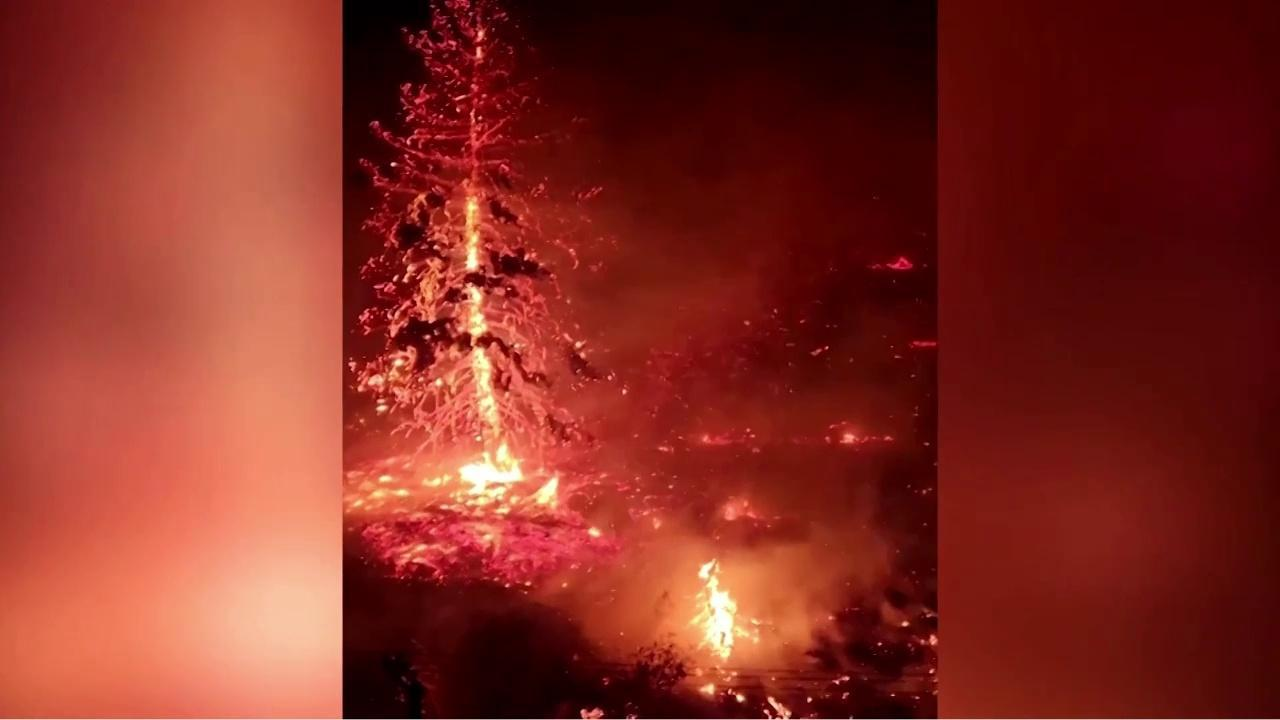fire: (344, 0, 638, 590), (685, 556, 764, 661), (824, 418, 894, 449), (719, 496, 765, 522), (690, 424, 739, 446), (865, 254, 914, 272), (761, 694, 793, 720), (573, 704, 608, 720), (908, 335, 938, 349), (695, 680, 718, 697), (726, 686, 748, 703)
smoke: (344, 22, 937, 720)
